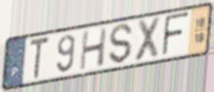9: (55, 34, 76, 74)
F: (161, 11, 191, 58)
H: (78, 26, 109, 72)
S: (108, 23, 134, 66)
T: (29, 35, 51, 82)
X: (133, 15, 163, 64)
